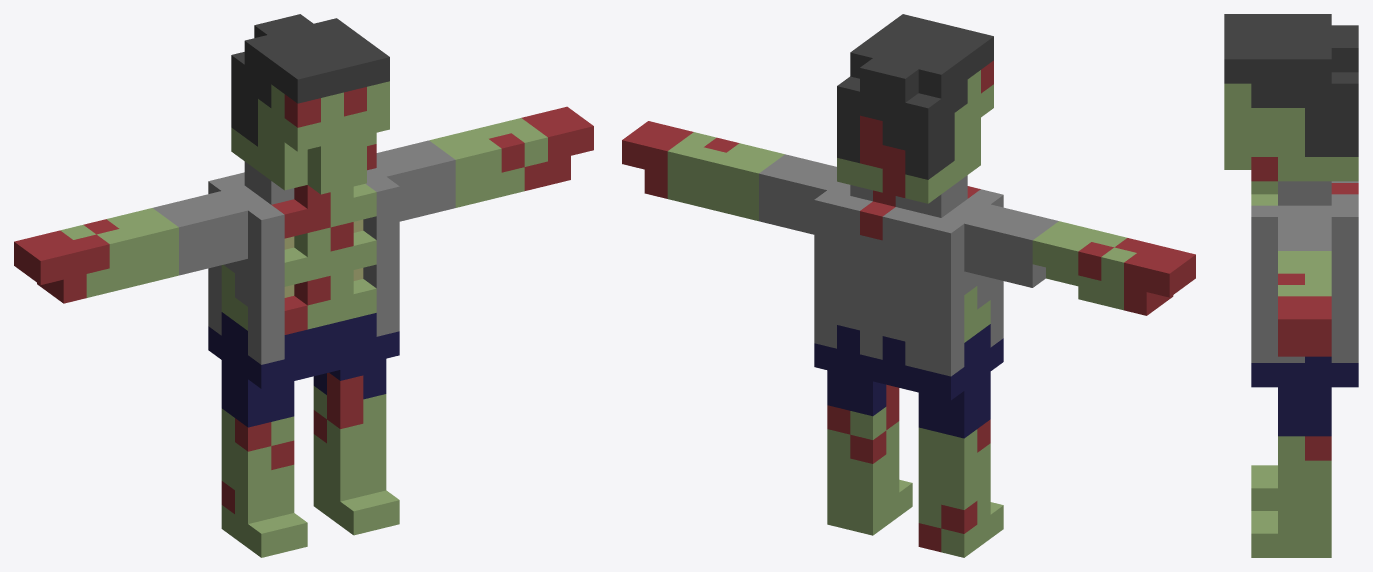
The model's file is voxel-zombie-2.glb.
The picture shows the model from 3 angles, left to right: view 1: azimuth 30°, elevation 25°; view 2: azimuth 150°, elevation 25°; view 3: azimuth 270°, elevation 25°; orthographic projection. The views are drawn at different scales.
Parts seen in each view (by area): view 1: Voxel Zombie 2; view 2: Voxel Zombie 2; view 3: Voxel Zombie 2.
Boxes of the visible parts, x1=… form: Voxel Zombie 2: x1=14, y1=14, x2=593, y2=557; Voxel Zombie 2: x1=622, y1=14, x2=1195, y2=557; Voxel Zombie 2: x1=1224, y1=14, x2=1358, y2=557.
Size of the model in its own units: 2.16 by 1.8 by 0.45.
Materials: 1 (1 with a texture image).
